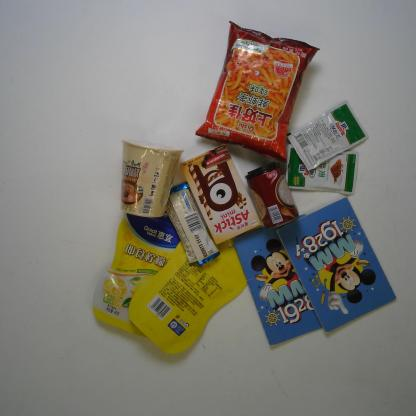Canned Food: (243, 157, 302, 231)
Chocolate: (163, 179, 224, 269)
Dessert: (178, 140, 264, 246)
Dried Fruit: (124, 220, 254, 358), (90, 204, 184, 342)
Instant Noodles: (118, 133, 186, 222)
Puffed Food: (192, 17, 324, 167)
Seasoner: (284, 95, 372, 173), (280, 140, 362, 198)
Stationery: (274, 193, 402, 337), (230, 210, 327, 350)
